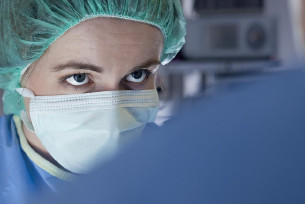face_mask: (21, 19, 164, 163)
